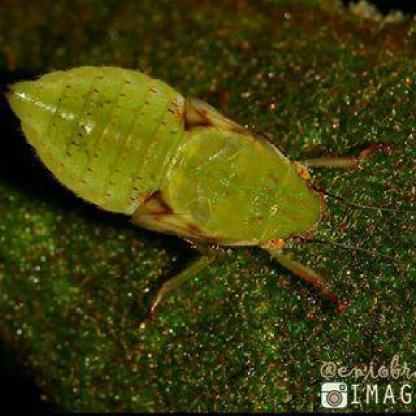green-leafhopper: (3, 61, 338, 256)
